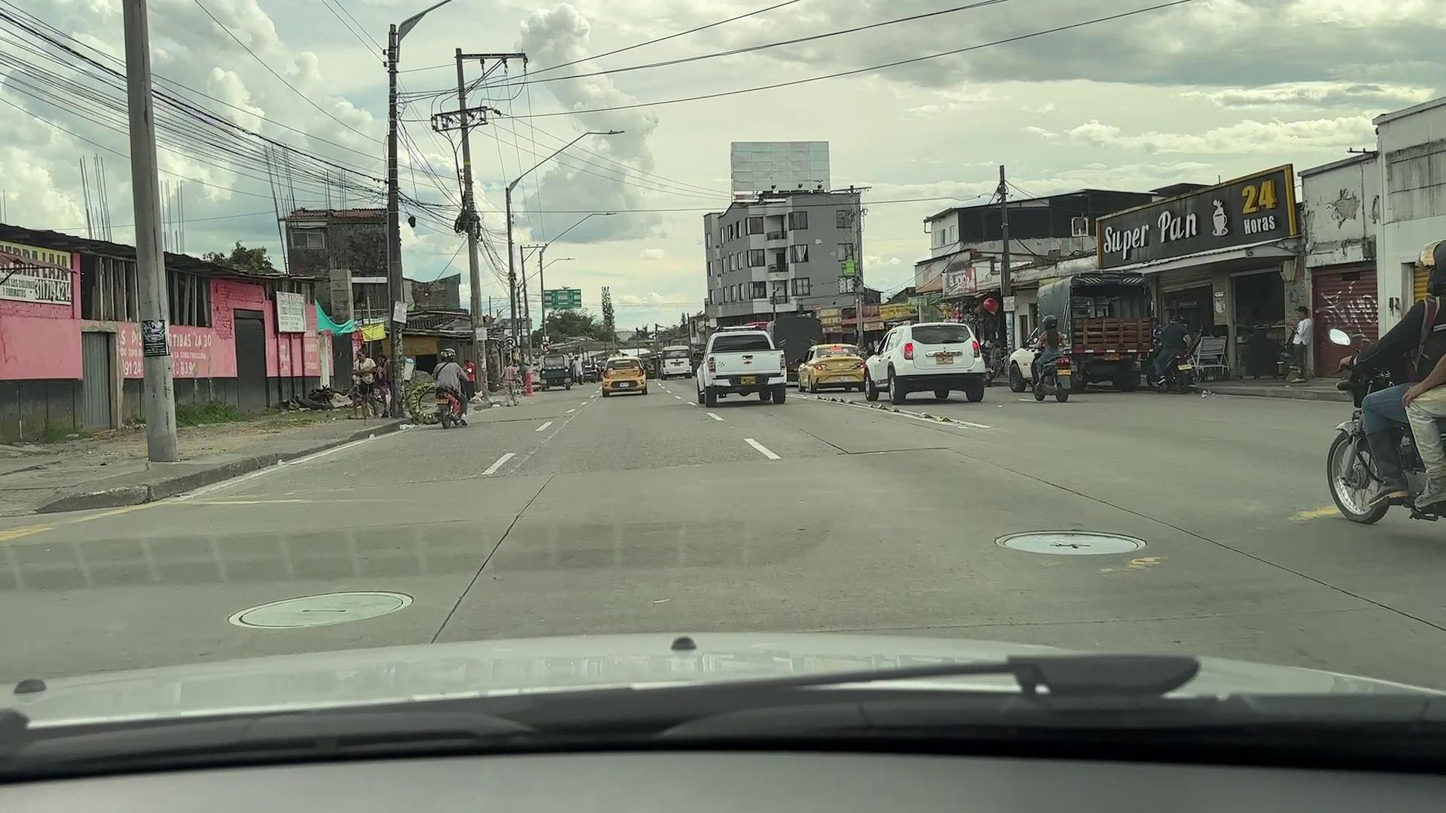registro: (229, 591, 413, 629), (994, 530, 1147, 554)
